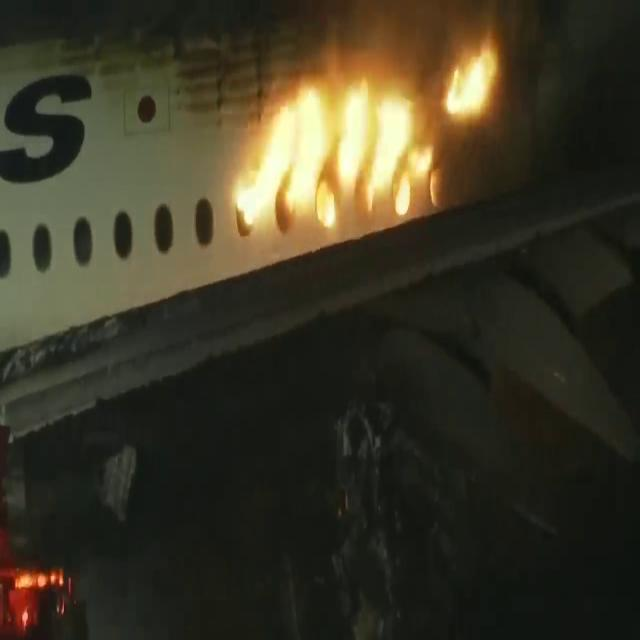Fire: (232, 52, 436, 234), (444, 32, 504, 126), (446, 32, 504, 125)
